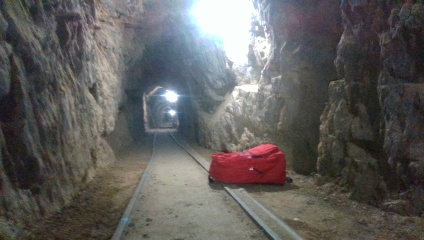backpack: (209, 142, 286, 186)
